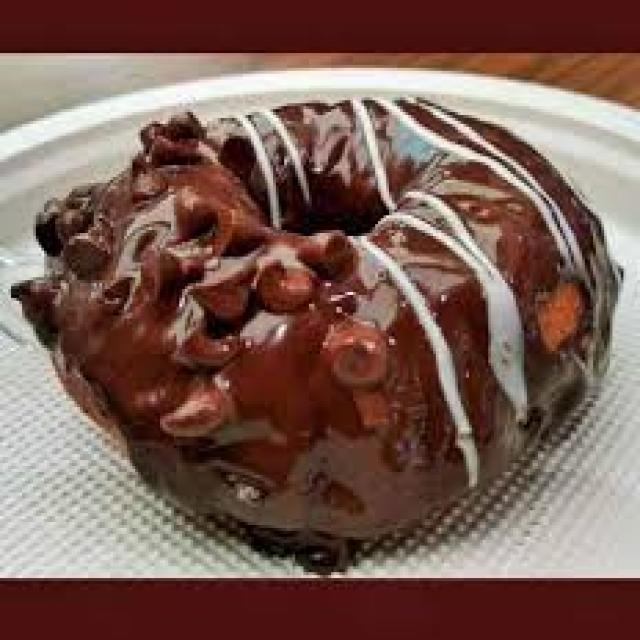Donut: (73, 122, 640, 527)
